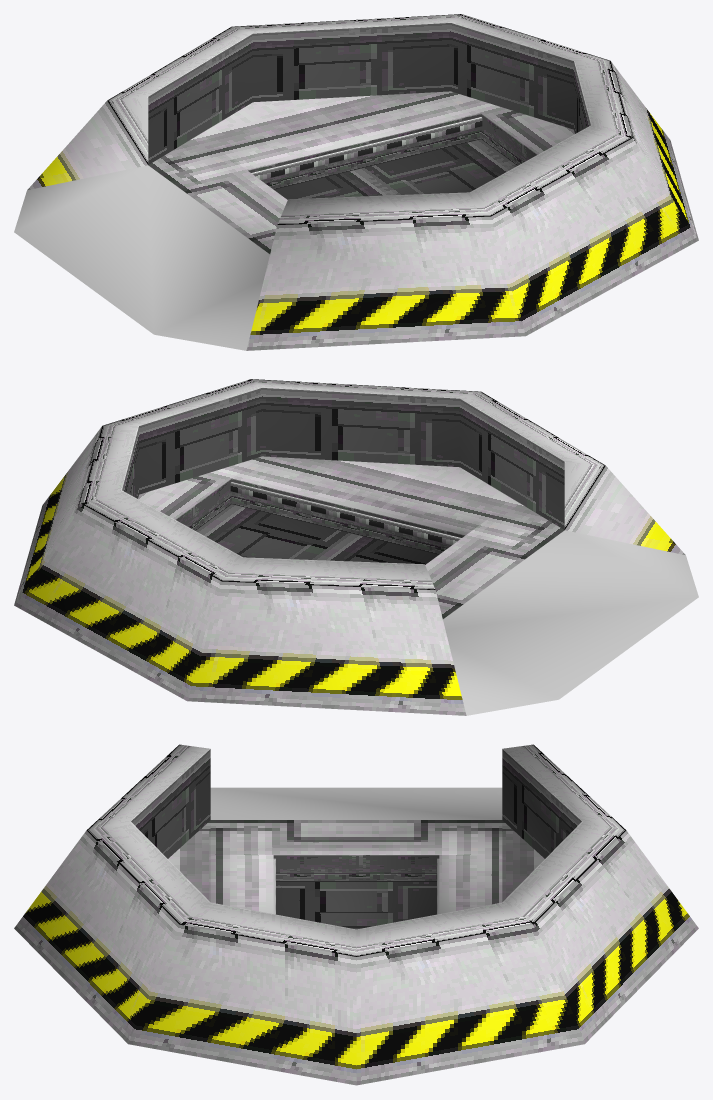
Rendered from Rocket_platform.obj.
3 views of the same model, one above another, from view 1: azimuth 30°, elevation 25°; view 2: azimuth 150°, elevation 25°; view 3: azimuth 270°, elevation 25° (orthographic). The views are drawn at different scales.
Visible parts, largest first — view 1: object_004BFEF4, object_004BF6B4; view 2: object_004BFEF4, object_004BF52C; view 3: object_004BFEF4.
Boxes of the visible parts, <box> form: object_004BFEF4: <box>14,14,698,350</box>; object_004BF6B4: <box>251,117,482,179</box>; object_004BFEF4: <box>14,379,698,715</box>; object_004BF52C: <box>230,482,461,544</box>; object_004BFEF4: <box>14,744,698,1085</box>.
Bounding box in the file's own units: 35.84 × 6 × 34.82.
